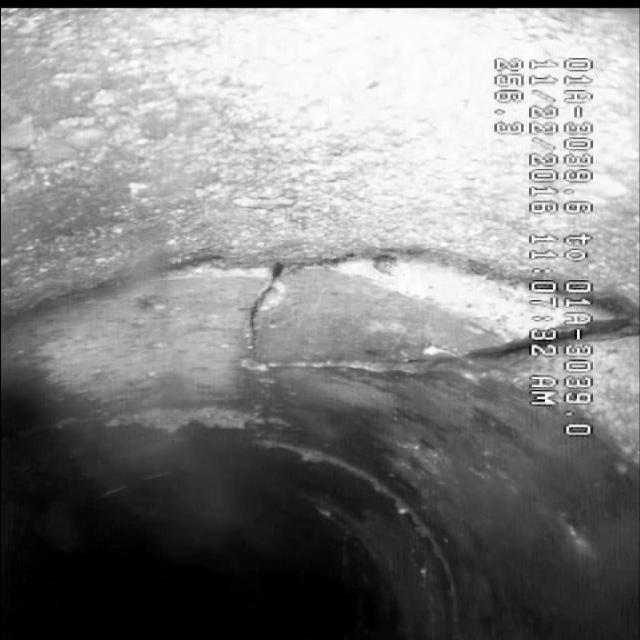Fracture: (124, 204, 512, 414)
